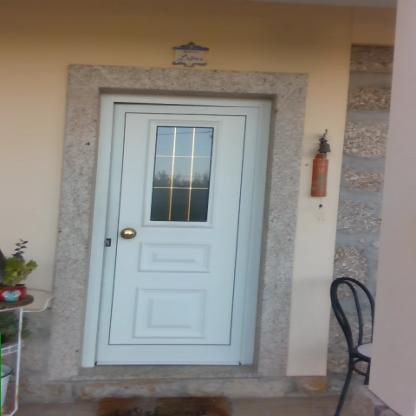closed: (74, 74, 288, 388)
